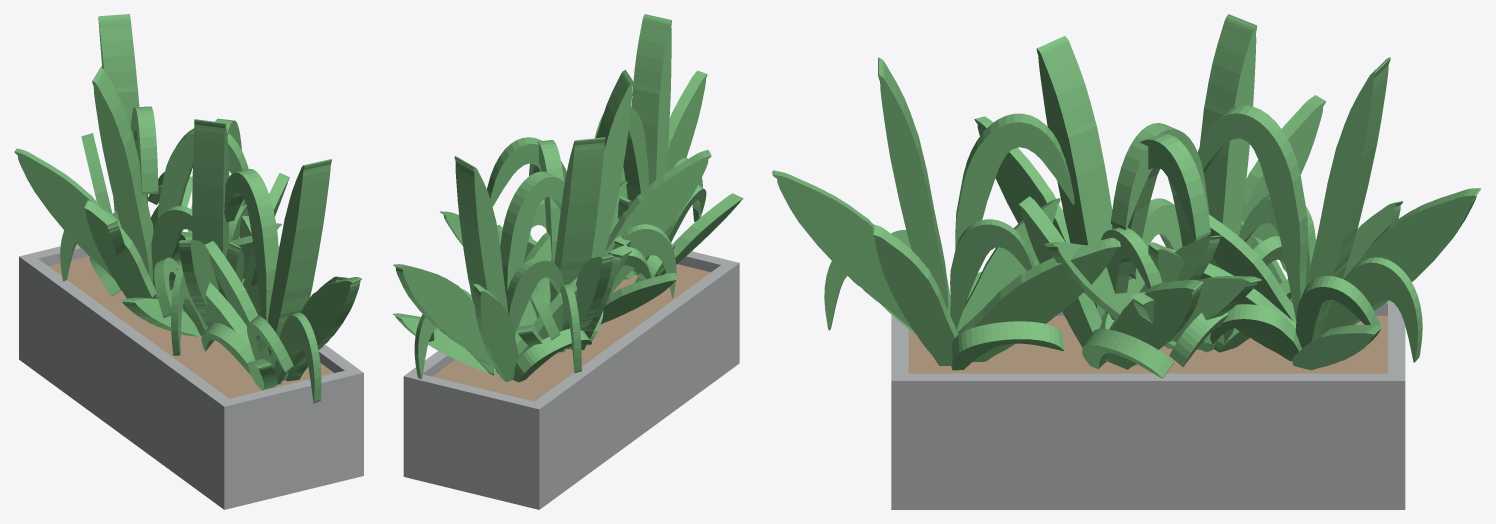
The model's file is Plant_box.glb.
The picture shows the model from 3 angles, left to right: view 1: azimuth 30°, elevation 25°; view 2: azimuth 150°, elevation 25°; view 3: azimuth 270°, elevation 25°; orthographic projection. The views are drawn at different scales.
Visible parts, largest first — view 1: Mesh_Mesh_head_geo.001_lambert2SG.001; view 2: Mesh_Mesh_head_geo.001_lambert2SG.001; view 3: Mesh_Mesh_head_geo.001_lambert2SG.001.
Boxes of the visible parts, bbox=[...] form: Mesh_Mesh_head_geo.001_lambert2SG.001: bbox=[14, 14, 363, 509]; Mesh_Mesh_head_geo.001_lambert2SG.001: bbox=[392, 14, 743, 509]; Mesh_Mesh_head_geo.001_lambert2SG.001: bbox=[772, 14, 1481, 509].
Size of the model in its own units: 0.0945 by 0.1313 by 0.2043.
